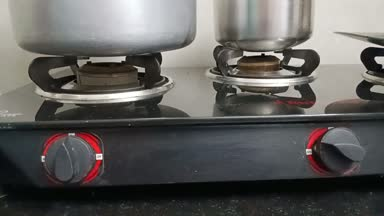noflame_gason: (216, 42, 370, 178), (18, 51, 168, 190)
